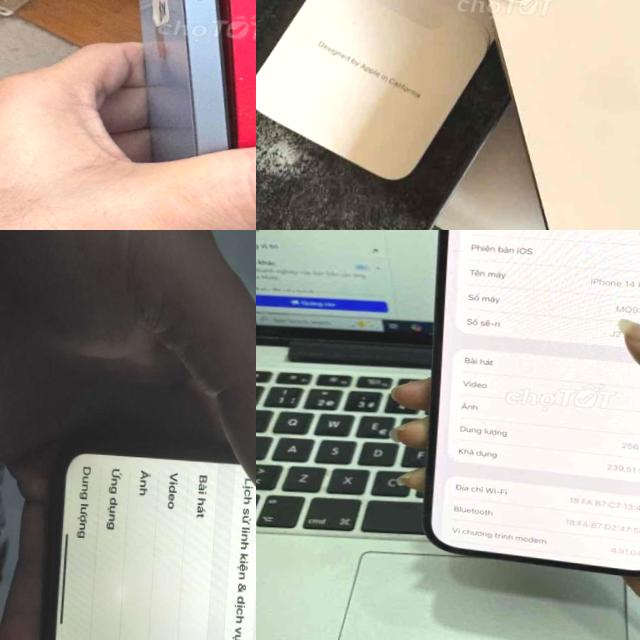gen_12_13: (447, 0, 640, 230)
gen_14: (402, 230, 640, 585), (82, 0, 256, 230)
gen_x_xs: (15, 426, 256, 640)
